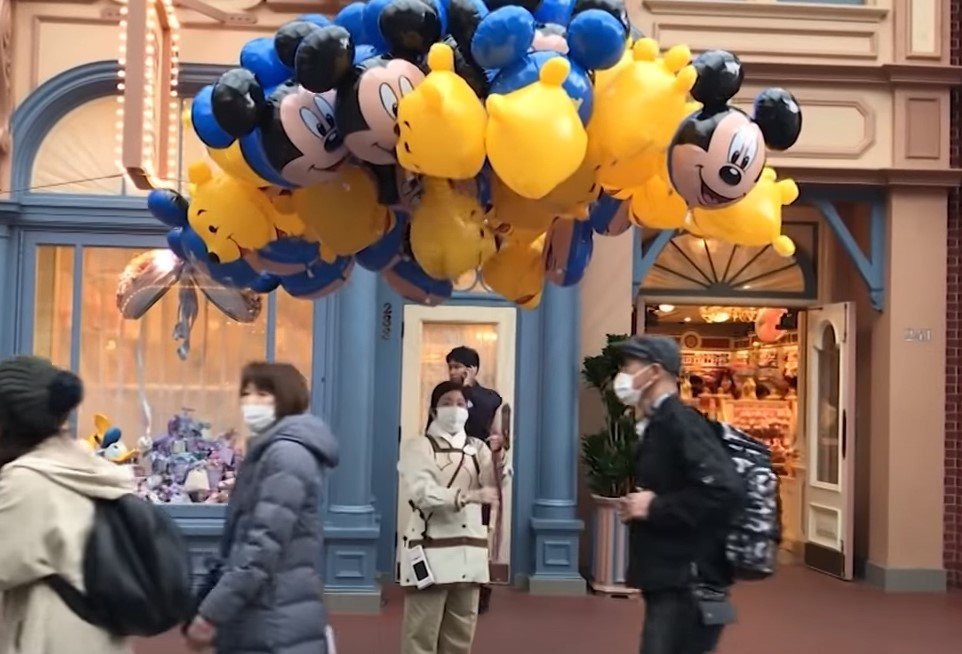face_no_mask: (449, 348, 479, 377)
face_with_mask: (606, 335, 679, 410), (238, 364, 303, 431), (432, 382, 473, 435)
